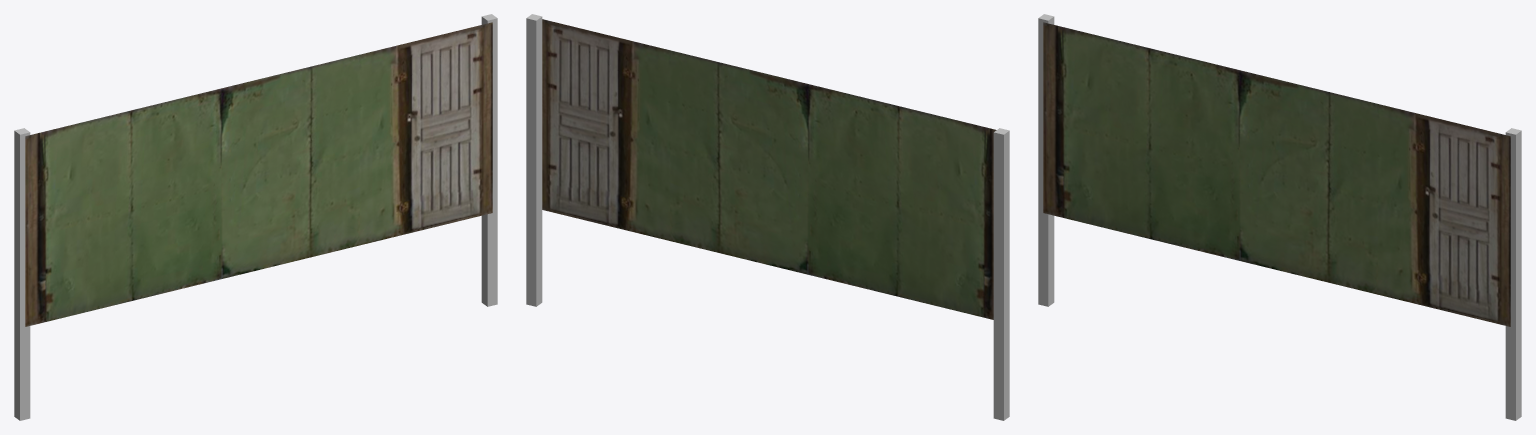
File: gate.FBX
3 views of the same model, side by side, from view 1: azimuth 30°, elevation 25°; view 2: azimuth 150°, elevation 25°; view 3: azimuth 330°, elevation 25° (orthographic).
Visible parts, largest first — view 1: gate, pil; view 2: gate, pil; view 3: gate, pil.
Boxes of the visible parts, bbox=[...] form: gate: bbox=[25, 22, 492, 326]; pil: bbox=[14, 14, 497, 420]; gate: bbox=[542, 19, 996, 319]; pil: bbox=[526, 14, 1009, 420]; gate: bbox=[1043, 22, 1510, 326]; pil: bbox=[1038, 14, 1521, 420].
Size of the model in its own units: 4.72 by 2.7 by 0.1012.
